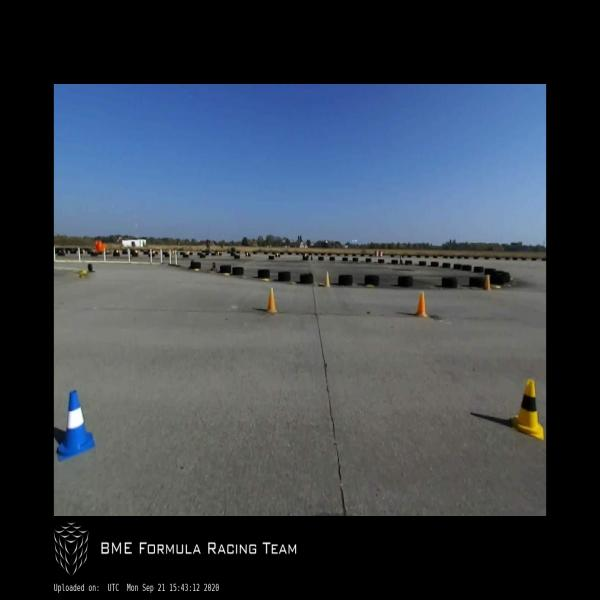blue_cone: (58, 391, 95, 460)
yellow_cone: (509, 380, 546, 440)
